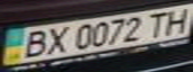0: (90, 18, 112, 47), (72, 21, 93, 51)
2: (124, 14, 151, 43)
7: (106, 16, 130, 45)
B: (15, 28, 54, 60)
H: (160, 6, 193, 35)
T: (142, 10, 172, 38)
X: (39, 25, 72, 56)
